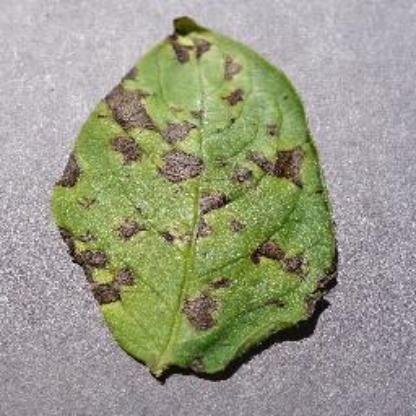Early-Blight: (55, 12, 355, 380)
